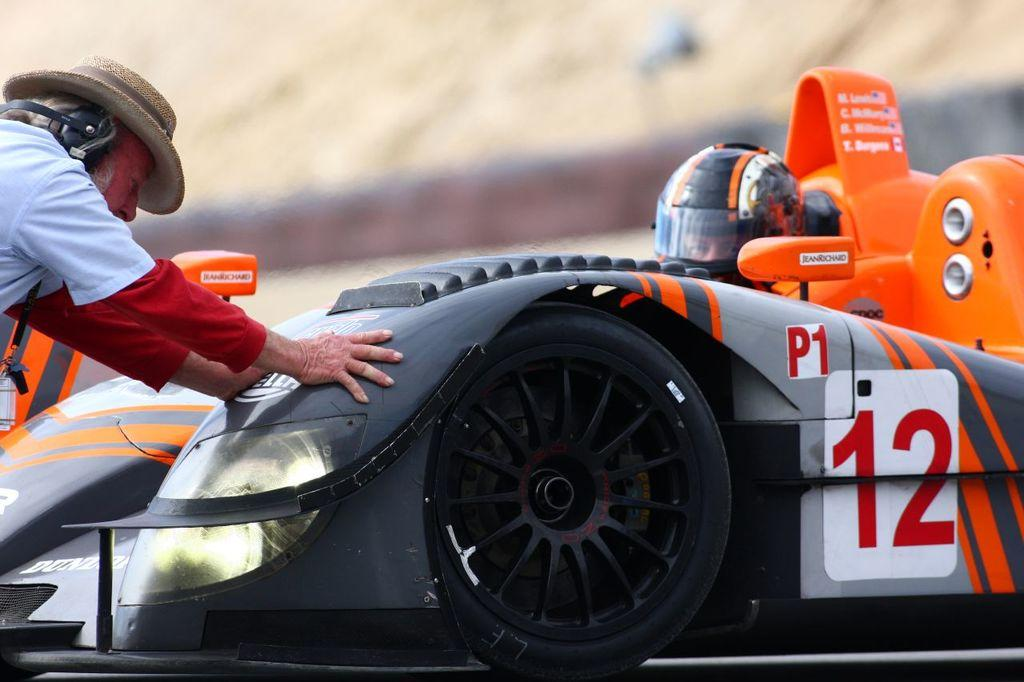helmet: (653, 141, 808, 316)
nohelmet: (2, 53, 187, 238)
